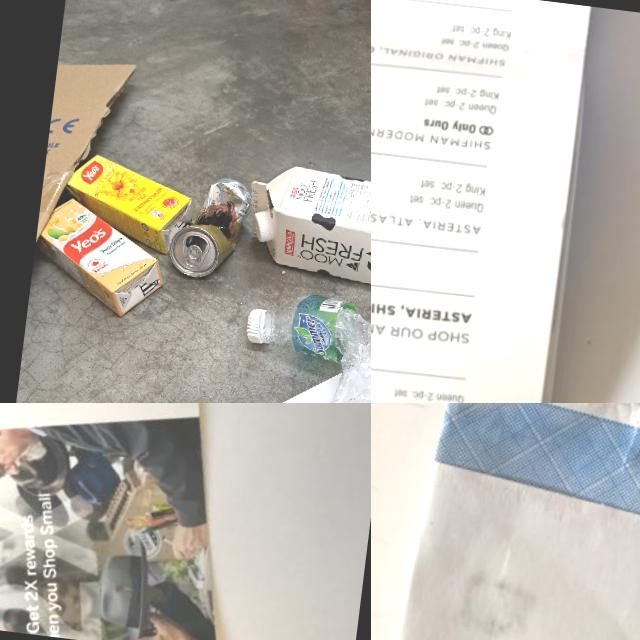aba de lata: (183, 243, 202, 270)
caixinha: (240, 160, 371, 311), (30, 194, 172, 320), (62, 150, 198, 256)
garrafa plástica: (257, 290, 371, 403)
lata: (167, 172, 254, 282)
papel: (371, 0, 601, 403), (0, 403, 274, 640), (385, 403, 640, 640), (135, 294, 371, 403)
papelão: (31, 55, 139, 292)
tampa plástica: (245, 307, 268, 344), (250, 212, 272, 243)
